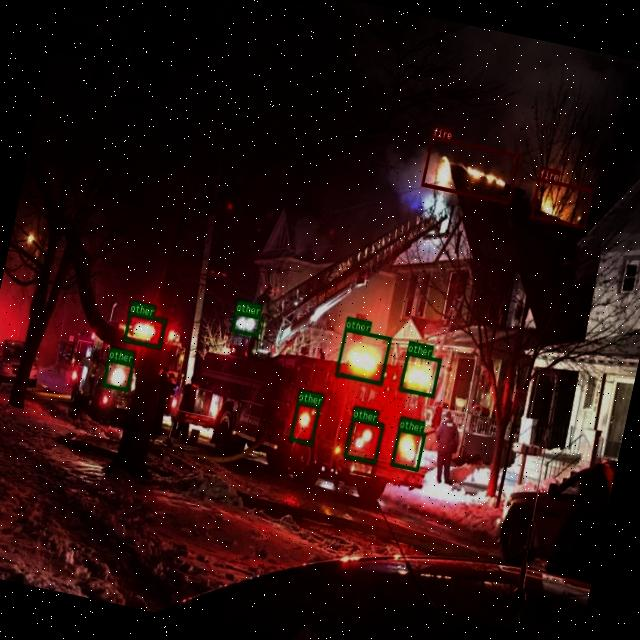fire: (421, 136, 518, 203), (530, 176, 592, 228)
